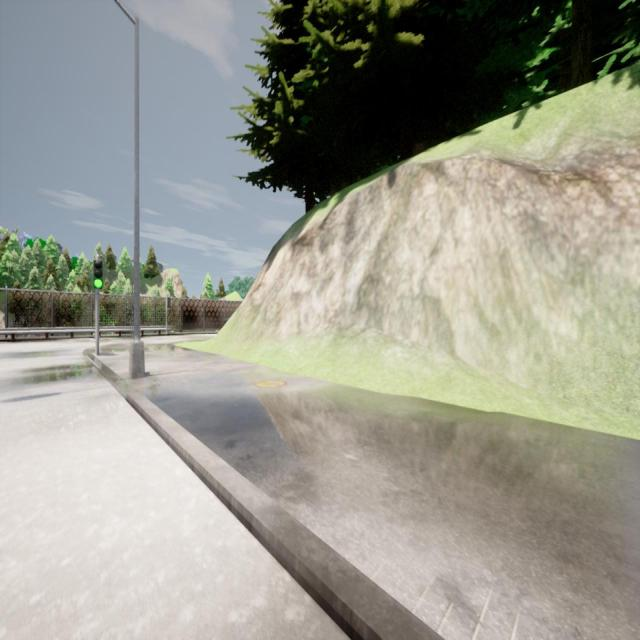traffic_light: (93, 260, 103, 288), (167, 297, 171, 308)
